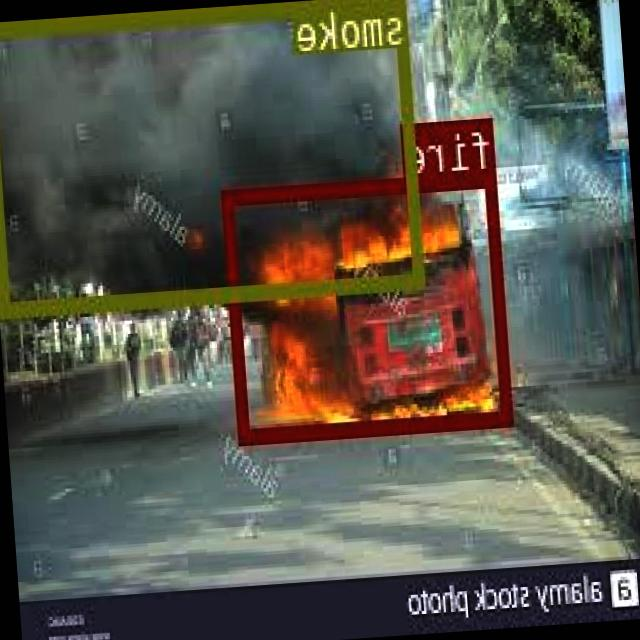fire: (225, 168, 514, 442)
smoke: (0, 0, 425, 312)
